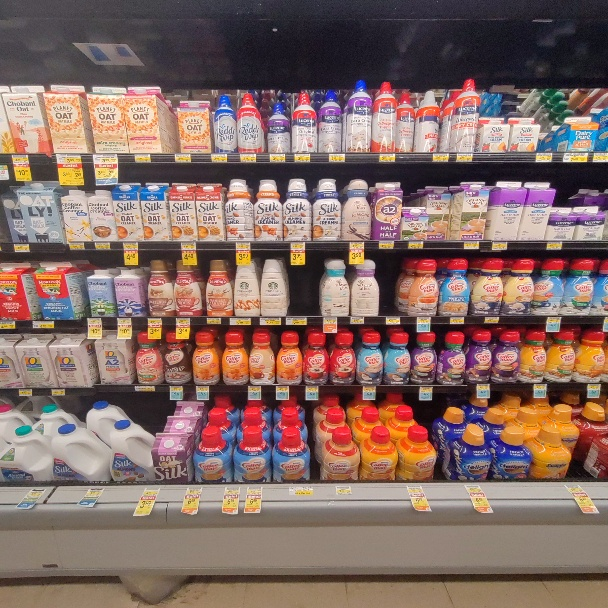All PRICE TAGS: (291, 486, 312, 497), (565, 484, 585, 494), (93, 155, 117, 163), (564, 153, 588, 161), (58, 155, 81, 163), (143, 487, 159, 498), (246, 486, 262, 496), (87, 487, 104, 496), (186, 487, 201, 497), (32, 322, 53, 329), (230, 317, 251, 324), (135, 154, 151, 163), (466, 485, 484, 493), (225, 487, 239, 497), (287, 317, 307, 324), (260, 317, 280, 324), (335, 486, 352, 494), (12, 155, 27, 164), (329, 153, 344, 162), (135, 384, 154, 391), (26, 490, 42, 498), (94, 242, 110, 250), (536, 153, 552, 161), (432, 153, 448, 161), (241, 153, 255, 162), (212, 153, 226, 162), (594, 153, 608, 162), (408, 485, 422, 494), (380, 153, 394, 162), (270, 153, 285, 161), (175, 154, 190, 162), (295, 154, 310, 162), (418, 386, 433, 394), (348, 242, 363, 250), (236, 242, 251, 250), (123, 242, 138, 250), (457, 153, 472, 161), (547, 316, 561, 324), (547, 241, 561, 249), (247, 385, 261, 393), (290, 242, 306, 249), (14, 244, 29, 251), (69, 243, 84, 250), (416, 317, 431, 324), (385, 317, 400, 324), (323, 317, 338, 324), (117, 317, 132, 324), (464, 242, 479, 249), (408, 242, 423, 249), (362, 386, 375, 394), (380, 241, 393, 249), (1, 322, 15, 329), (476, 384, 490, 391), (450, 317, 464, 324), (350, 317, 364, 324), (207, 317, 221, 324), (176, 317, 190, 324), (148, 317, 162, 324), (493, 242, 507, 249), (182, 242, 196, 249), (51, 388, 64, 395), (305, 387, 318, 394), (275, 386, 288, 393), (196, 387, 209, 394), (171, 386, 184, 393), (486, 316, 499, 323), (87, 318, 102, 324), (19, 389, 31, 396), (588, 384, 600, 391), (534, 384, 546, 390)
